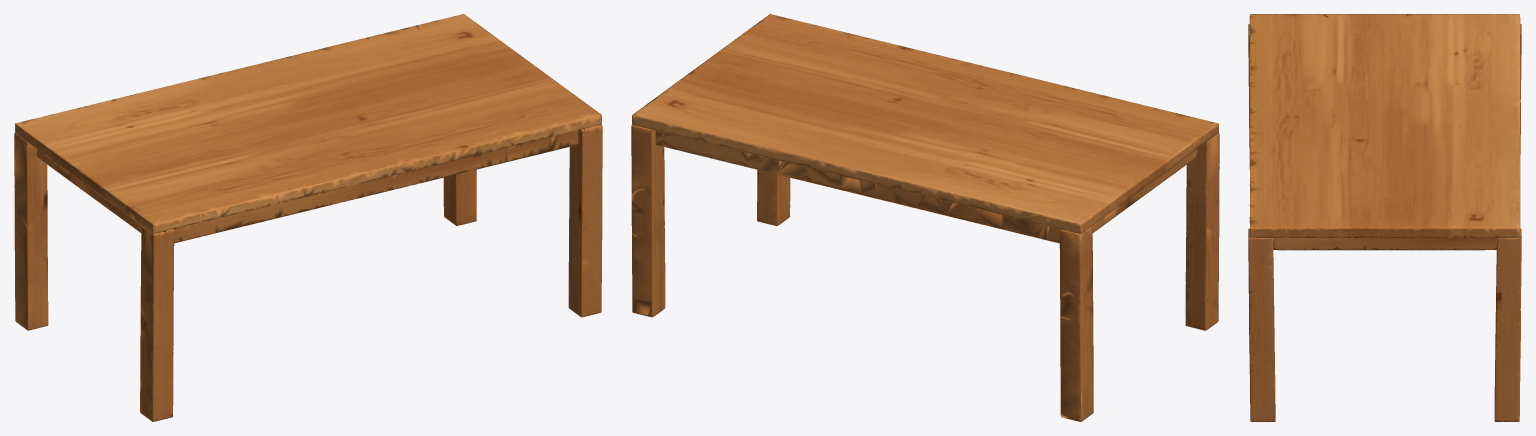
Rendered from dining_table.glb.
The picture shows the model from 3 angles, left to right: view 1: azimuth 30°, elevation 25°; view 2: azimuth 150°, elevation 25°; view 3: azimuth 270°, elevation 25°; orthographic projection. The views are drawn at different scales.
Visible parts, largest first — view 1: geometry_0; view 2: geometry_0; view 3: geometry_0.
Boxes of the visible parts, x1=… form: geometry_0: x1=14, y1=14, x2=602, y2=421; geometry_0: x1=631, y1=14, x2=1219, y2=421; geometry_0: x1=1248, y1=14, x2=1521, y2=421.
Bounding box in the file's own units: 1.8 × 0.7589 × 0.9701.
1 material, 1 textured.
